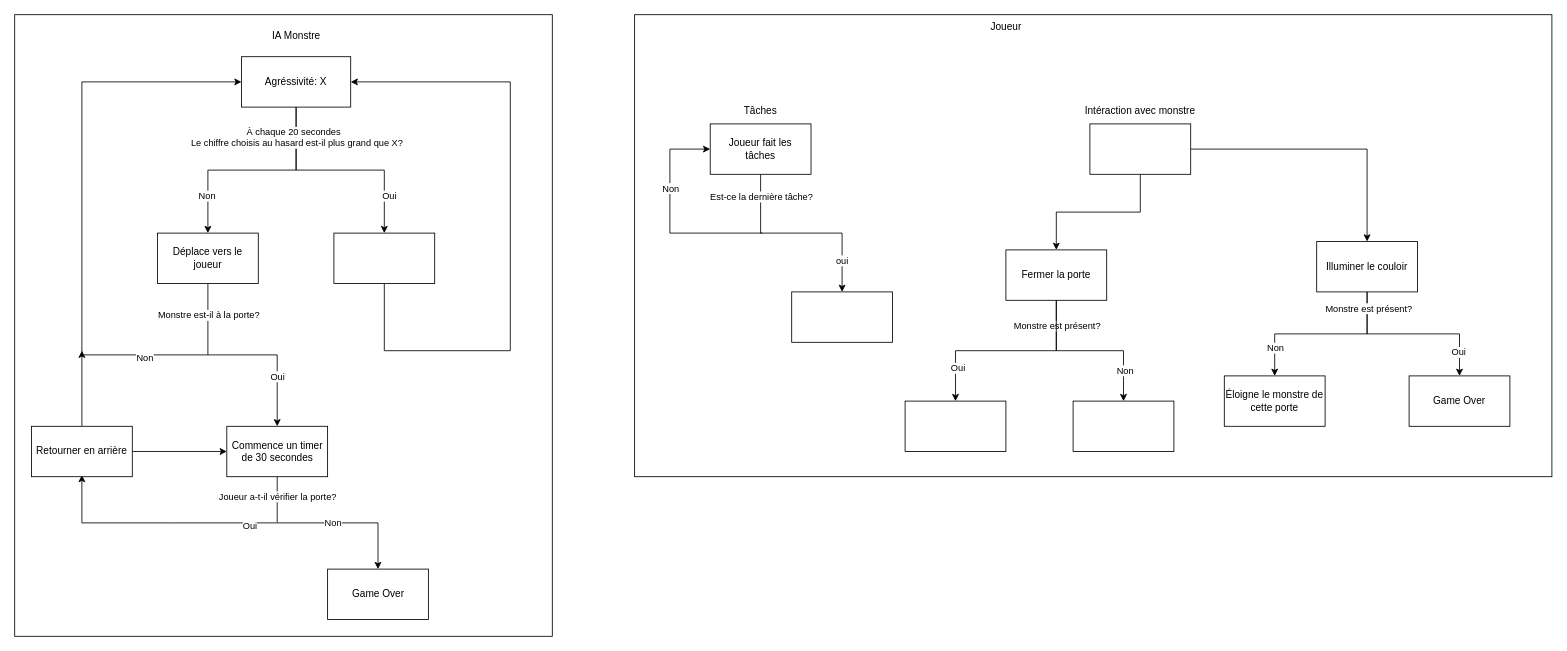
Image size: 1567x651. Some labels were removed from this diagram. The centre of each missing label's shape, as x and y in pixels:
Le monstre disparait de la porte: the point at 955,426
Ne bouge pas: the point at 384,258
Rien se passe: the point at 1123,426
Victoire: the point at 841,316
Vérifier la porte: the point at 1140,148
